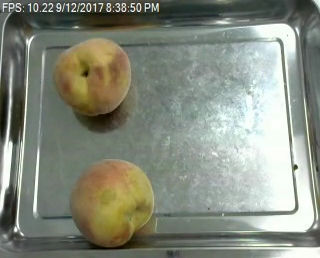Peach: (70, 158, 155, 247), (52, 37, 132, 116)
